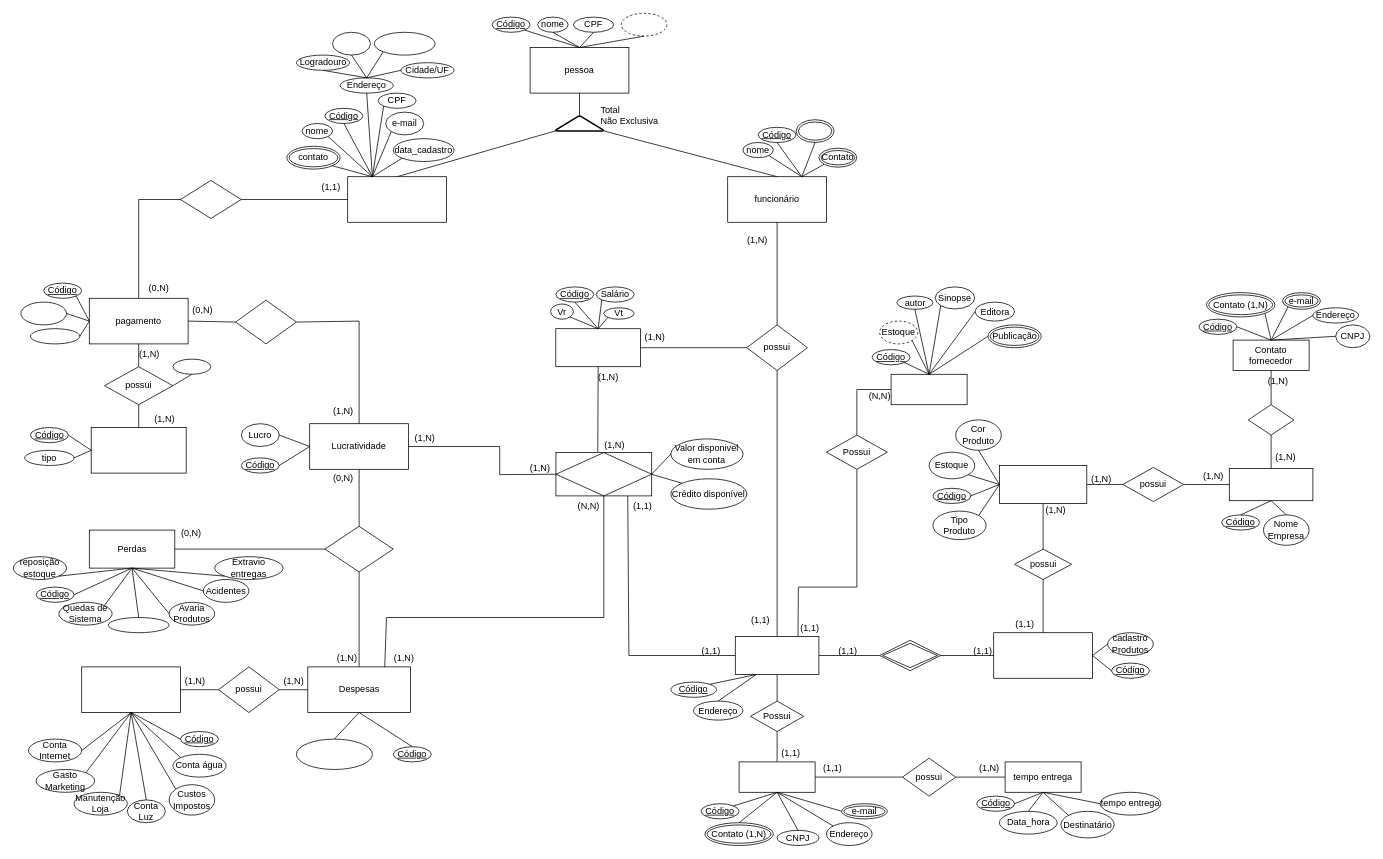
Some shapes in this 1383 by 859 pixel diagram are drawn without their labels. Each missing label, with the centre of its shape:
"Cliente" belongs at (396,199).
"Complemento" belongs at (404,43).
"Contém" belongs at (1271,419).
"Custo" belongs at (598,347).
"Data" belongs at (55,336).
"efetua" belongs at (210,199).
"Forma Pagamento" belongs at (138,450).
"Fornecedores" belongs at (1271,484).
"Gastos Variáveis" belongs at (130,689).
"idade" belongs at (644,24).
"Livros" belongs at (928,389).
"Loja" belongs at (777,655).
"Número" belongs at (351,43).
"Papelaria" belongs at (1042,655).
"Produtos" belongs at (1043,484).
"Rede elétrica" belongs at (138,625).
"relaciona" belongs at (358,549).
"Saldo empresa" belongs at (603,474).
"se refere" belongs at (265,321).
"Sexo" belongs at (814,130).
"Transportadora" belongs at (776,776).
"Valor" belongs at (191,366).
"Valor de venda" belongs at (43,313).
"Valor_Aluguel" belongs at (334,754).
